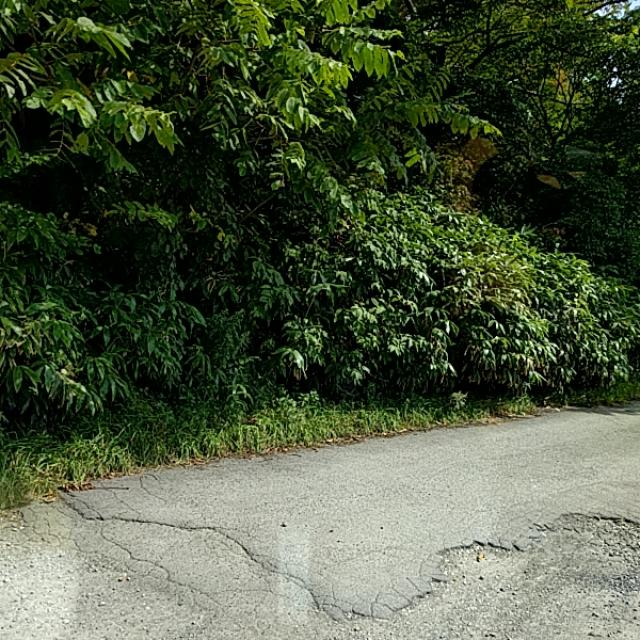pothole: (58, 474, 444, 620)
